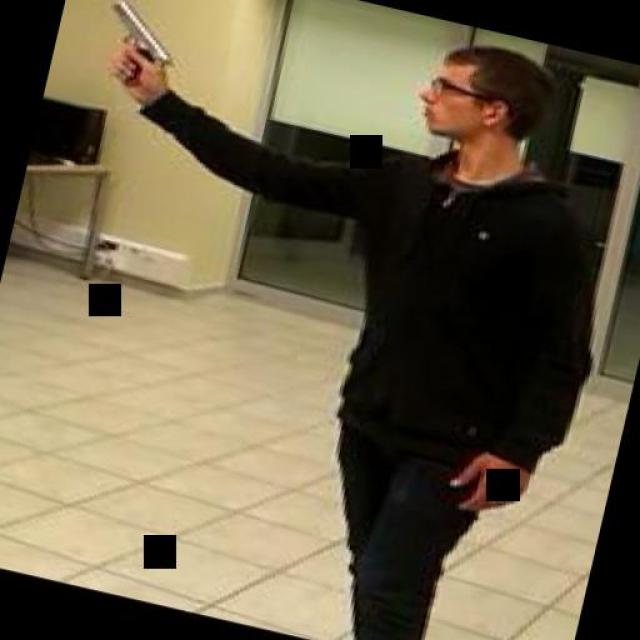gun: (84, 0, 192, 95)
